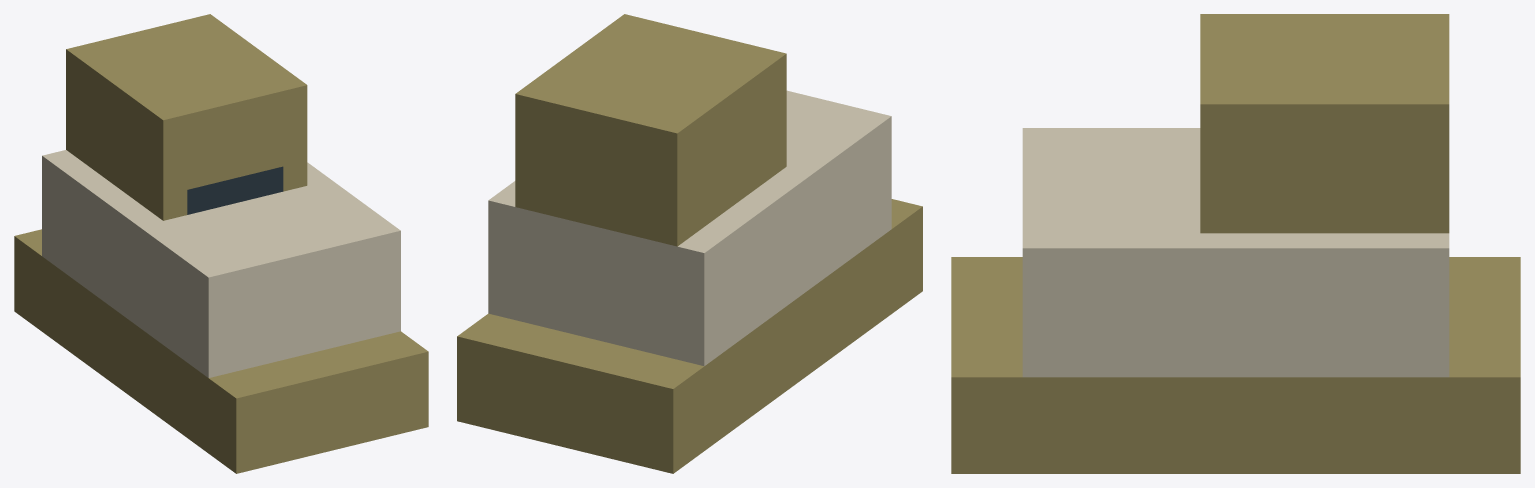
Rendered from sports-10.glb.
3 views of the same model, side by side, from view 1: azimuth 30°, elevation 25°; view 2: azimuth 150°, elevation 25°; view 3: azimuth 270°, elevation 25° (orthographic). The views are drawn at different scales.
Visible parts, largest first — view 1: Running shoe; view 2: Running shoe; view 3: Running shoe.
Boxes of the visible parts, x1=… form: Running shoe: x1=14, y1=14, x2=428, y2=473; Running shoe: x1=457, y1=14, x2=922, y2=473; Running shoe: x1=951, y1=14, x2=1520, y2=473.
Bounding box in the file's own units: 0.64 × 0.88 × 1.28.
